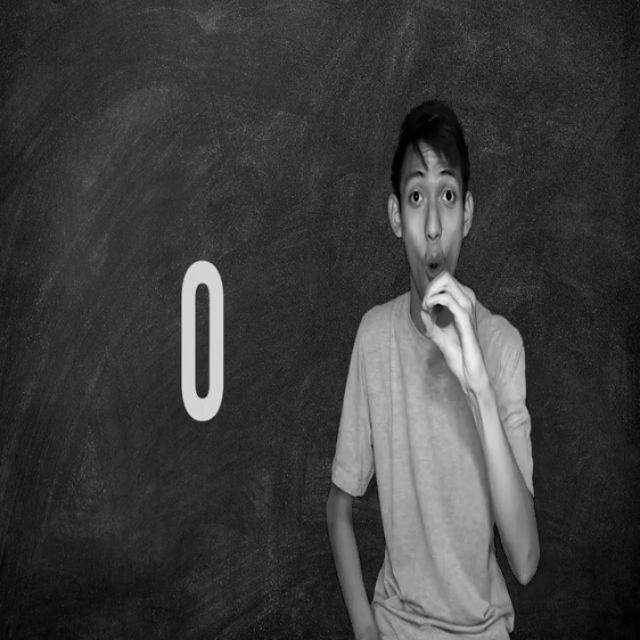O: (413, 274, 478, 351)
